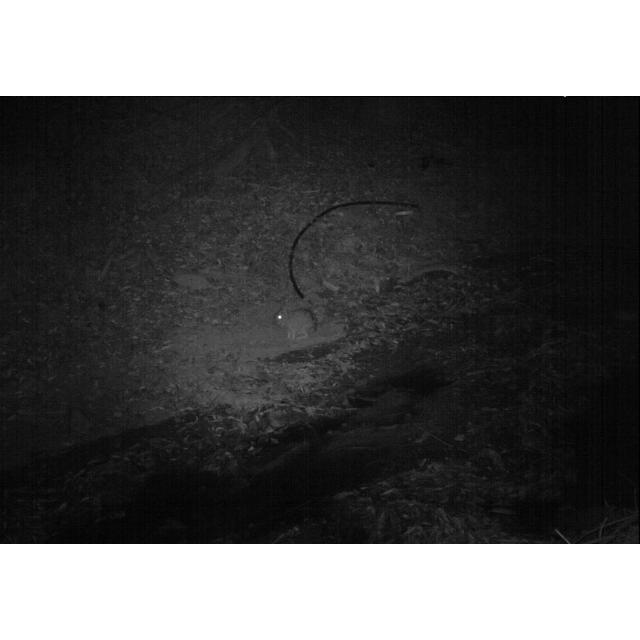animals: (271, 294, 321, 340)
